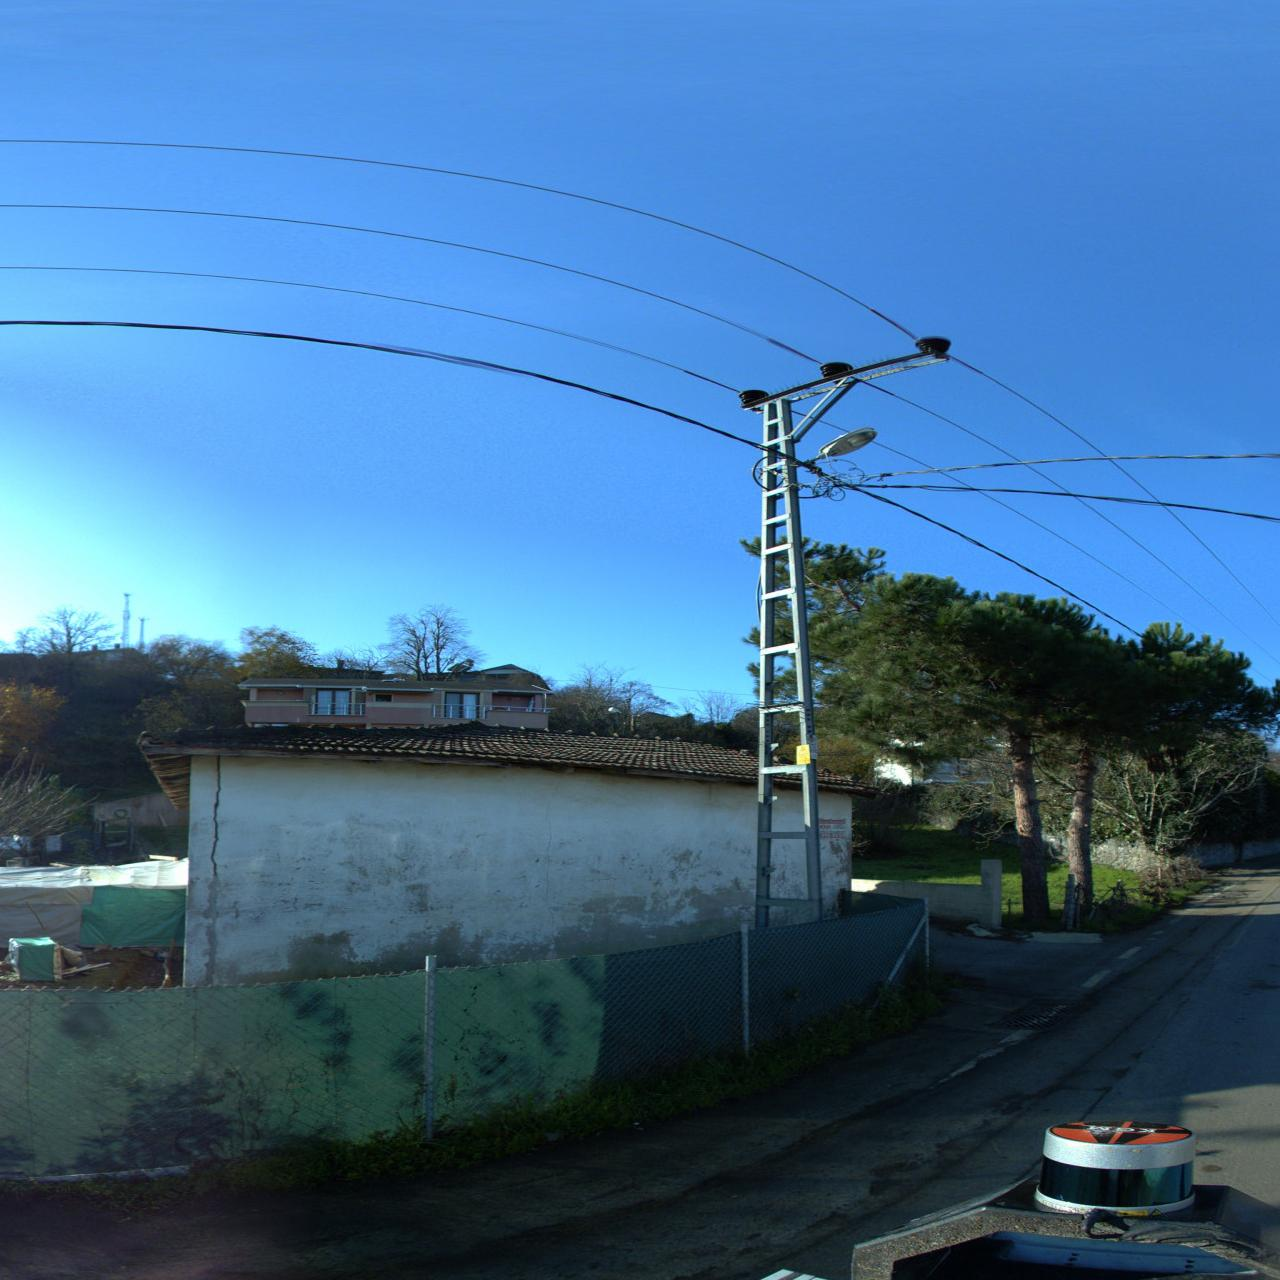Utility Pole Information Plate: (796, 743, 811, 764), (808, 735, 819, 749)
